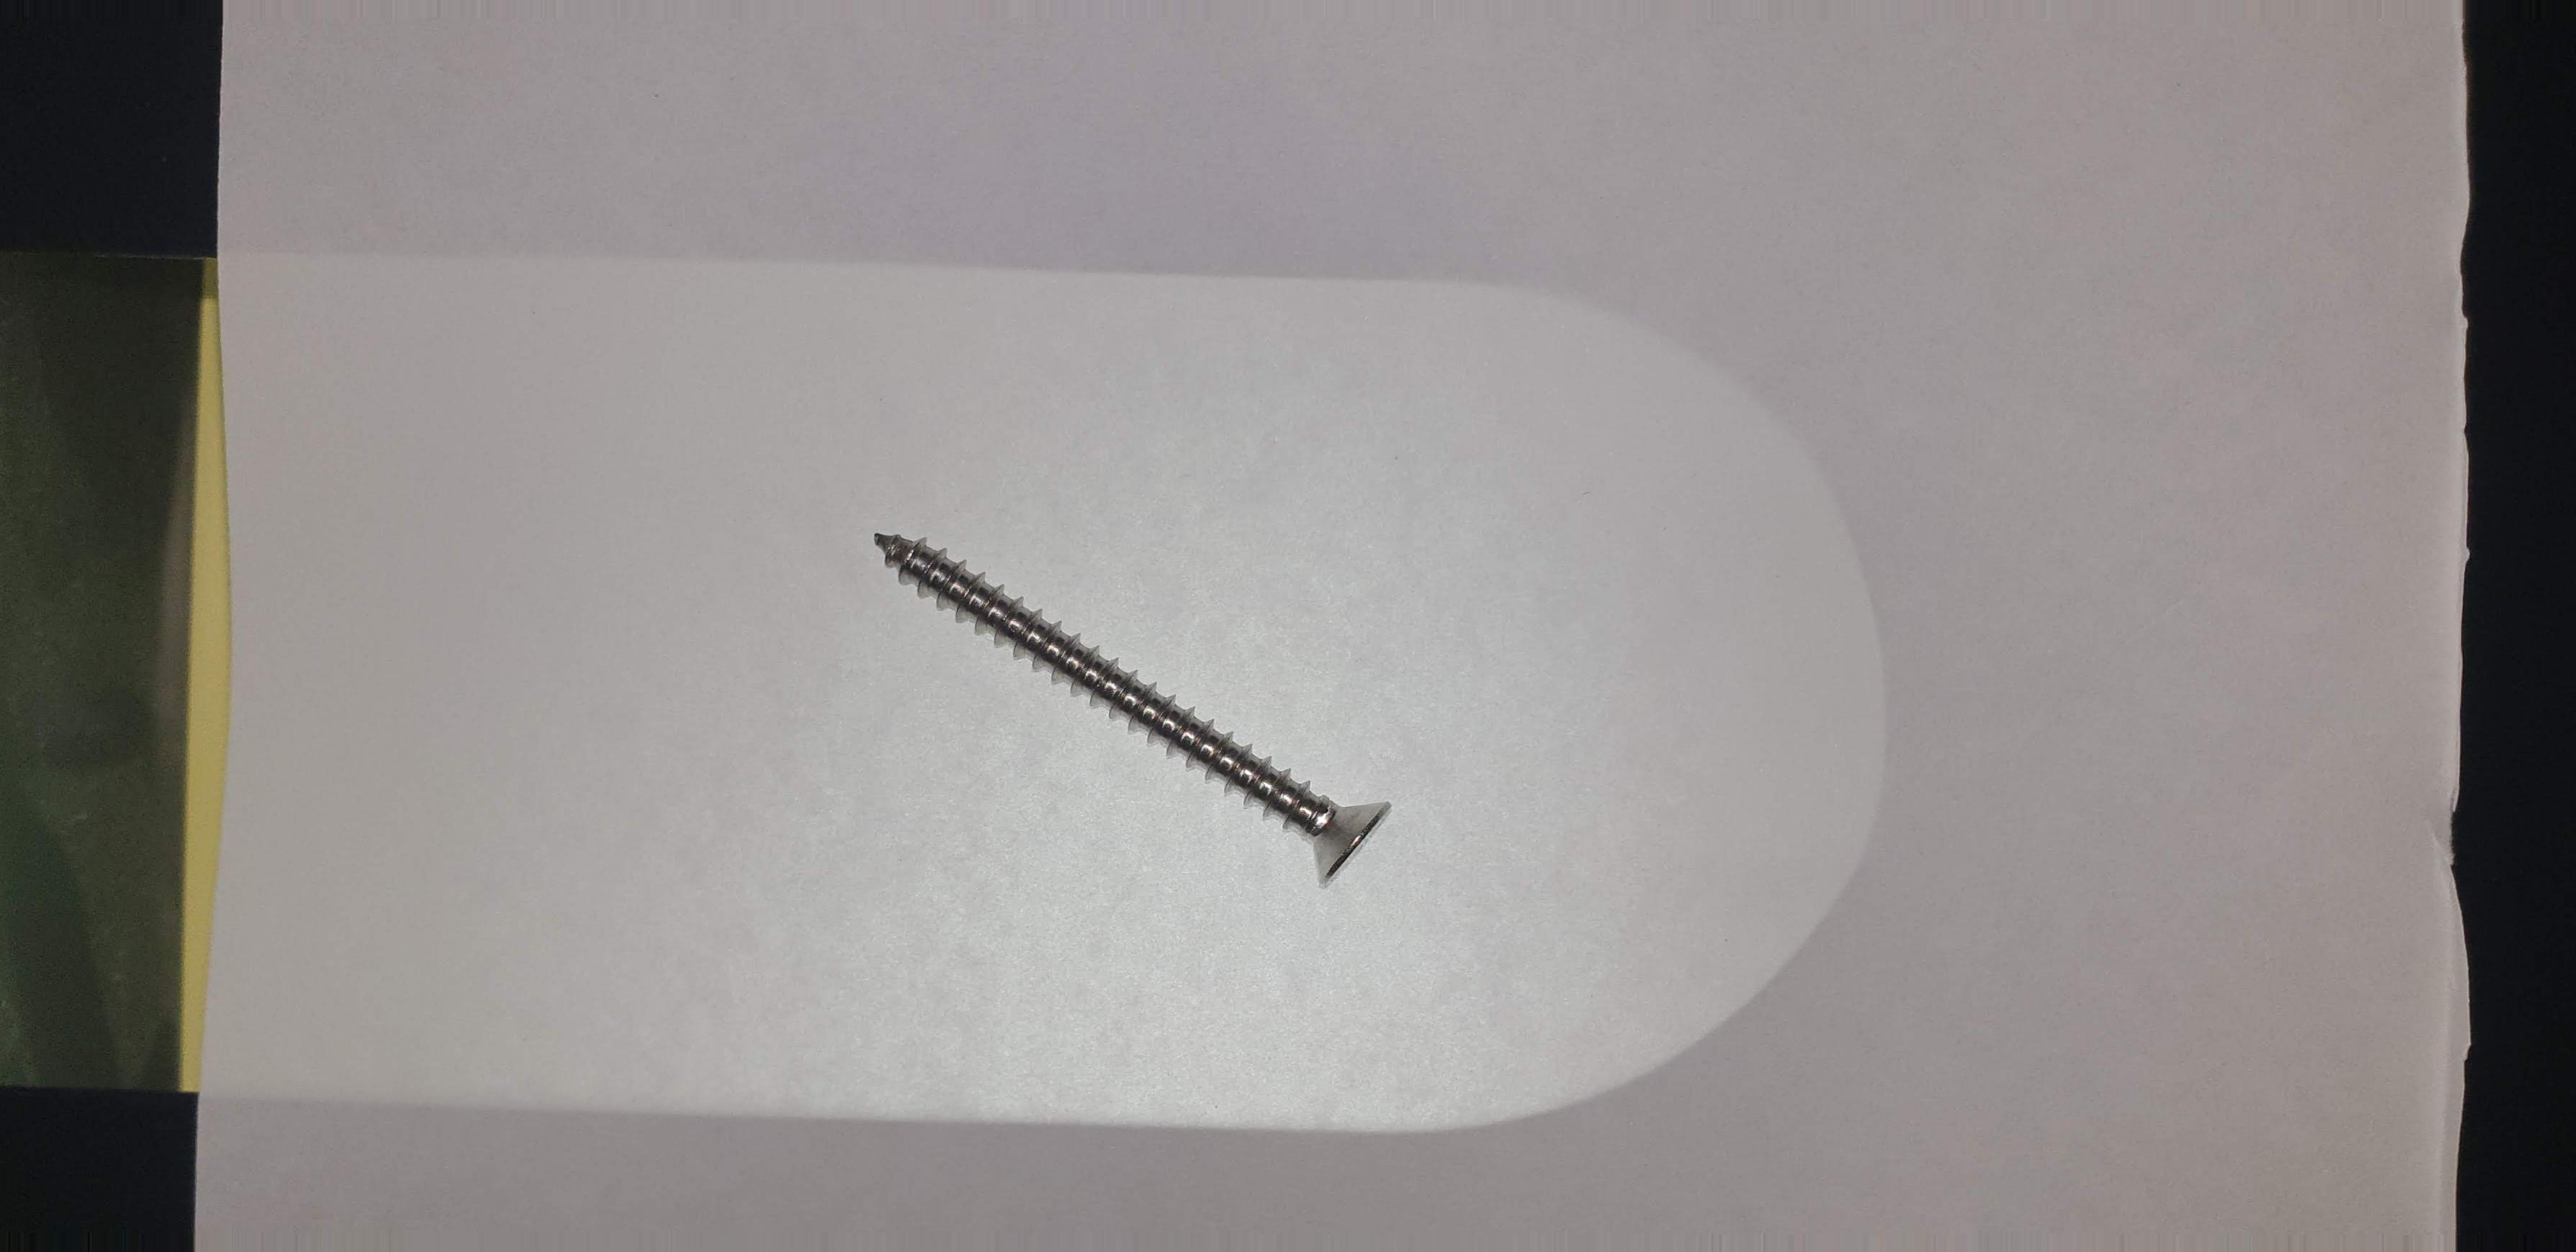fastener: (805, 444, 1505, 918)
